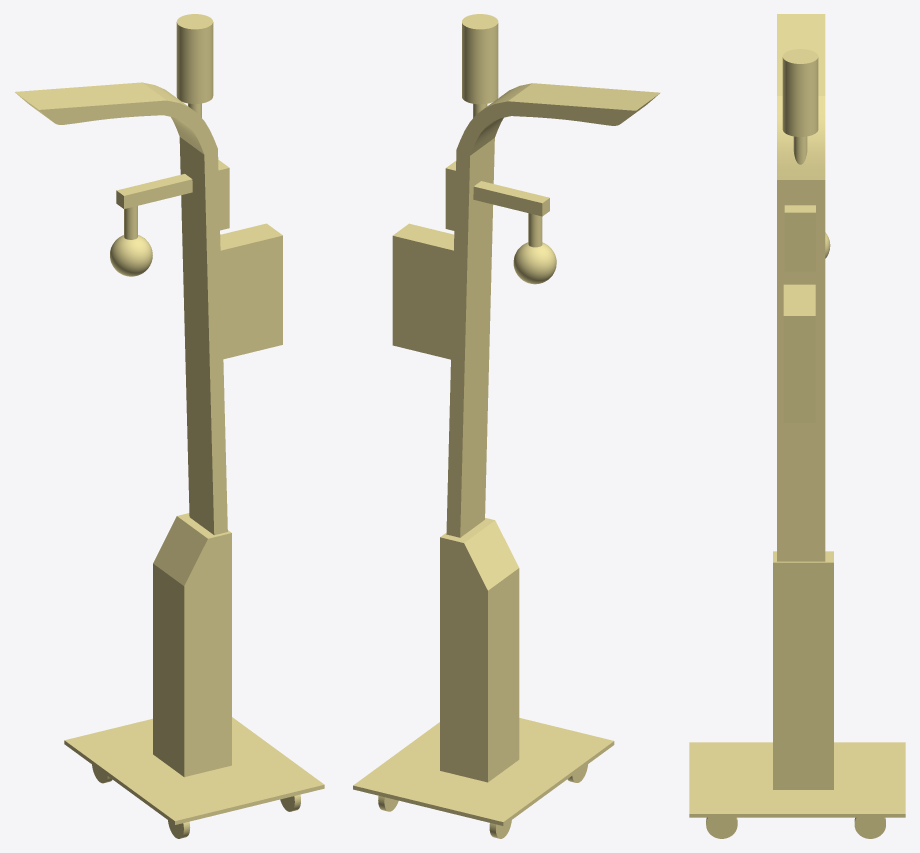
Rendered from StreetLamp.gltf.
3 views of the same model, side by side, from view 1: azimuth 30°, elevation 25°; view 2: azimuth 150°, elevation 25°; view 3: azimuth 270°, elevation 25° (orthographic). The views are drawn at different scales.
Parts seen in each view (by area): view 1: light; view 2: light; view 3: light.
Boxes of the visible parts, x1,y1,x2,y2 form: light: (15, 14, 324, 838); light: (353, 14, 660, 838); light: (689, 14, 905, 838).
Bounding box in the file's own units: 1.79 × 5.33 × 1.38.
